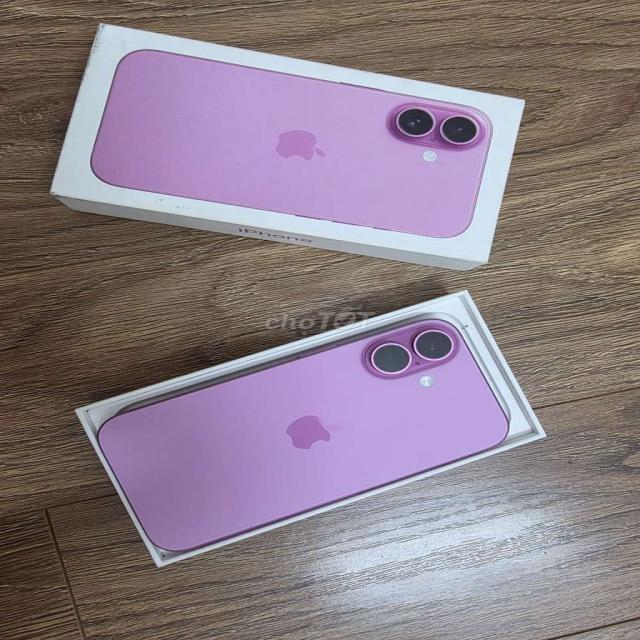gen_16: (96, 315, 516, 560)
